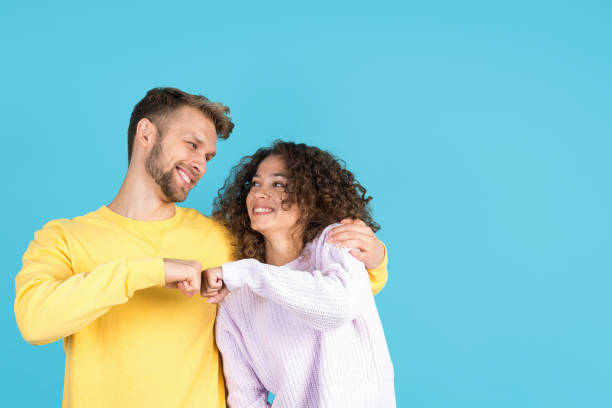without mask: (131, 97, 229, 209), (234, 151, 304, 234)
